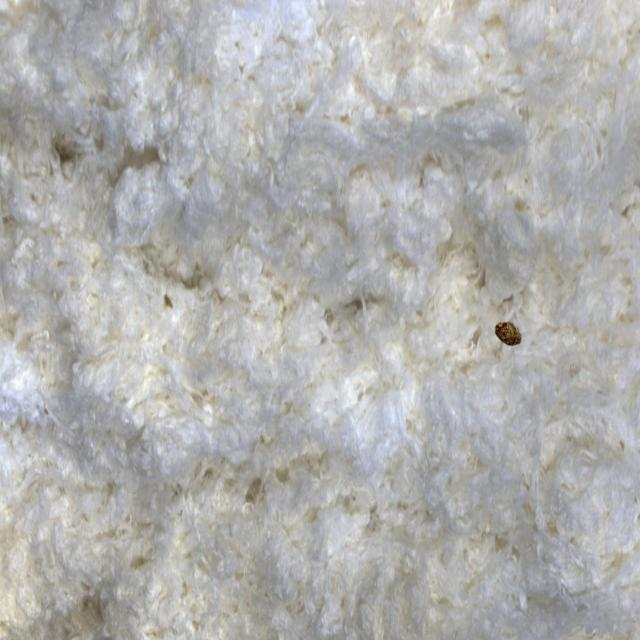dust: (487, 298, 539, 378)
